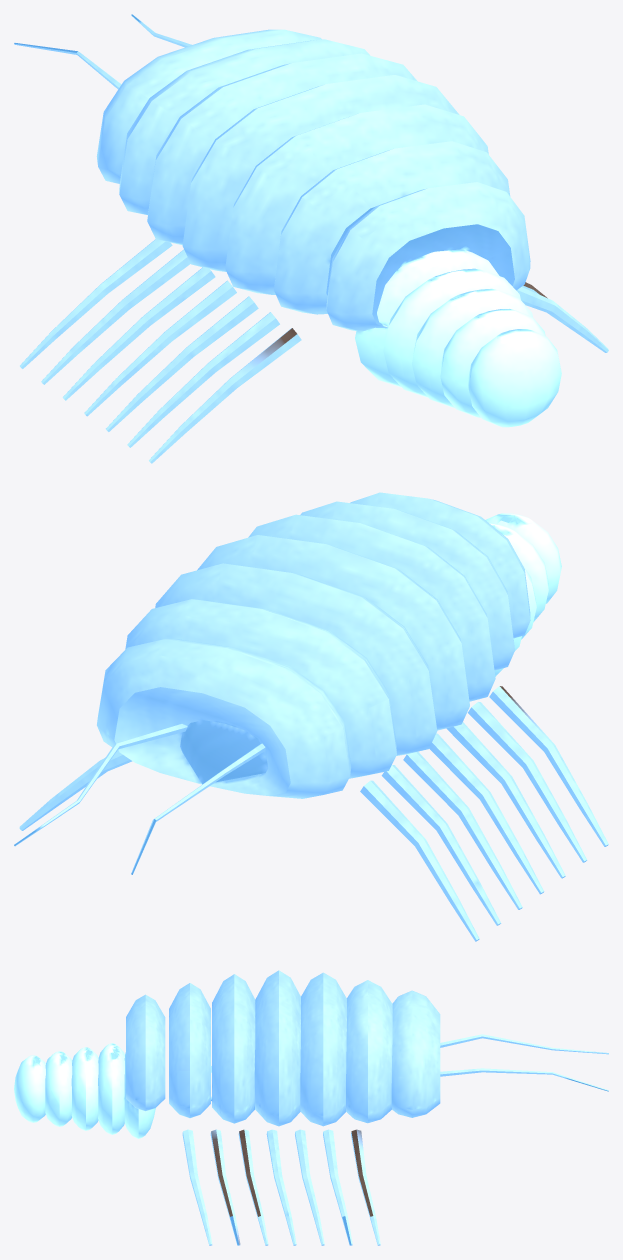
File: eurythenes_gryllus.glb
The picture shows the model from 3 angles, top to bottom: view 1: azimuth 30°, elevation 25°; view 2: azimuth 150°, elevation 25°; view 3: azimuth 270°, elevation 25°; orthographic projection. The views are drawn at different scales.
Parts seen in each view (by area): view 1: eurythenes_gryllus; view 2: eurythenes_gryllus; view 3: eurythenes_gryllus.
Boxes of the visible parts, bbox=[...] form: eurythenes_gryllus: bbox=[14, 14, 608, 463]; eurythenes_gryllus: bbox=[14, 492, 608, 941]; eurythenes_gryllus: bbox=[14, 970, 608, 1245].
Bounding box in the file's own units: 0.4141 × 0.2462 × 0.7122.
Materials: 2 (2 with a texture image).
